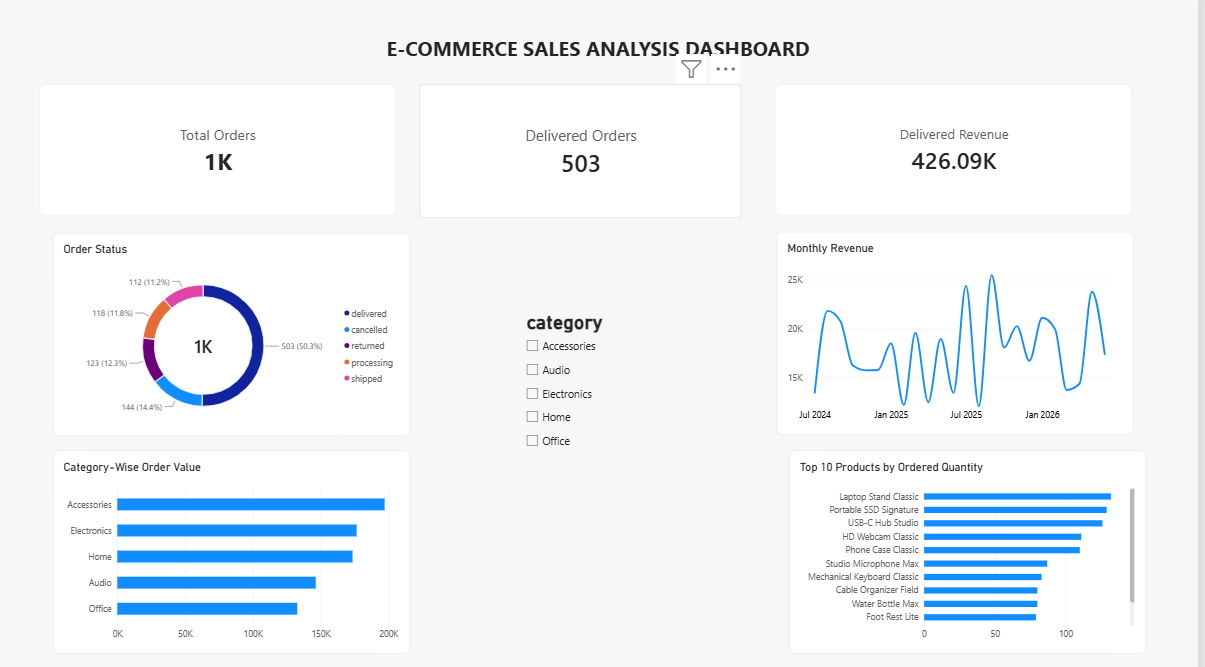

Layout of this report page (visuals, bound fields, positions):
{"tool":"powerbi","page":{"name":"Page 1","canvas":[1920,1080],"ordinal":0},"visuals":[{"type":"cardVisual","fields":{"Data":["public customers.Total Orders"]},"box":[66,138,570,210],"z":0},{"type":"cardVisual","fields":{"Data":["public customers.Delivered Revenue"]},"box":[1244,138,570,210],"z":1000},{"type":"donutChart","title":"Order Status","fields":{"Category":["public orders.status"],"Y":["CountNonNull(public orders.order_id)"]},"box":[88,376,570,325],"z":2000},{"type":"lineChart","title":"Monthly Revenue","fields":{"Category":["public orders.order_date.Variation.Date Hierarchy.Year","public orders.order_date.Variation.Date Hierarchy.Month"],"Y":["public customers.Delivered Revenue"]},"box":[1246,374,570,325],"z":2001},{"type":"clusteredBarChart","title":"Category-Wise Order Value","fields":{"Category":["public products.category"],"Y":["Sum(public orders.total)"]},"box":[88,724,570,325],"z":2002},{"type":"clusteredBarChart","title":"Top 10 Products by Ordered Quantity","fields":{"Category":["public products.product_name"],"Y":["Sum(public orders.quantity)"]},"box":[1266,724,570,325],"z":2003},{"type":"slicer","fields":{"Values":["public products.category"]},"box":[838,500,382,302],"z":2004},{"type":"textbox","box":[1750,670,170,325],"z":2009},{"type":"textbox","box":[250,58,1420,42],"z":2012},{"type":"cardVisual","fields":{"Data":["public customers.Delivered Orders"]},"box":[674,138,516,214],"z":2013},{"type":"actionButton","box":[860,866,200,46],"z":2014}]}

Visuals, with their boxes in screenshot pixels (x1, y1, x2, y2), scaled from the page's 1920x1080 canvas onto the 1205x667 screenshot:
cardVisual - public customers.Total Orders: <bbox>41, 85, 399, 215</bbox>
cardVisual - public customers.Delivered Revenue: <bbox>781, 85, 1138, 215</bbox>
"Order Status" donutChart: <bbox>55, 232, 413, 433</bbox>
"Monthly Revenue" lineChart: <bbox>782, 231, 1140, 432</bbox>
"Category-Wise Order Value" clusteredBarChart: <bbox>55, 447, 413, 648</bbox>
"Top 10 Products by Ordered Quantity" clusteredBarChart: <bbox>795, 447, 1152, 648</bbox>
slicer - public products.category: <bbox>526, 309, 766, 495</bbox>
textbox: <bbox>1098, 414, 1204, 615</bbox>
textbox: <bbox>157, 36, 1048, 62</bbox>
cardVisual - public customers.Delivered Orders: <bbox>423, 85, 747, 217</bbox>
actionButton: <bbox>540, 535, 665, 563</bbox>
